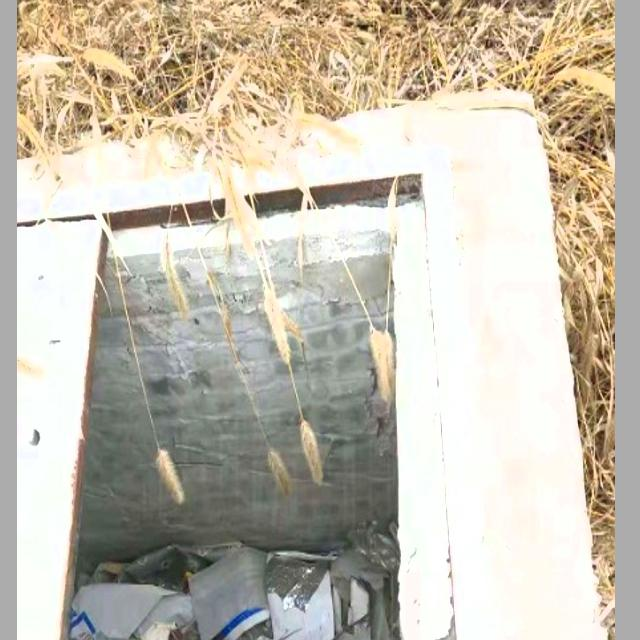lose: (18, 143, 507, 640)
